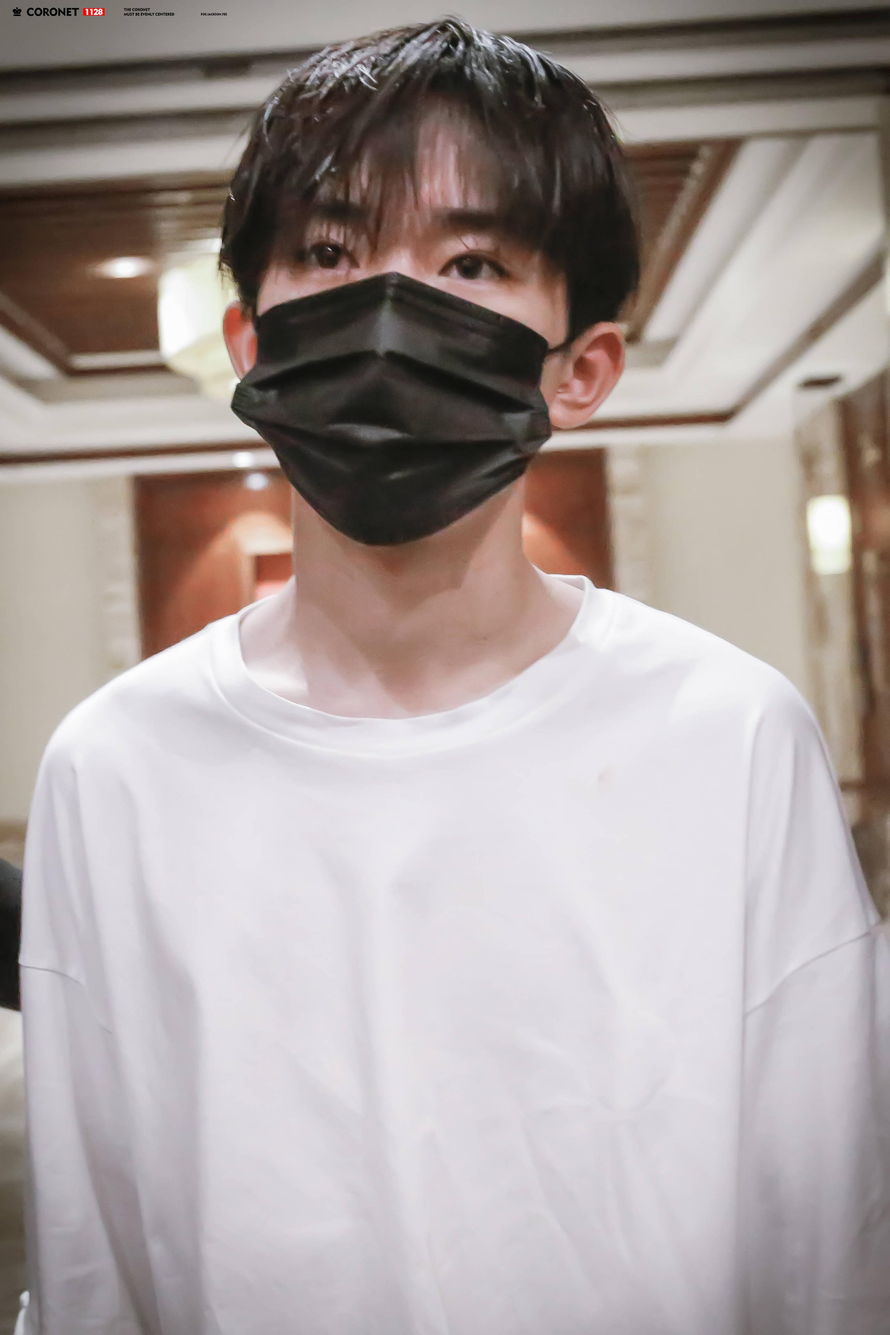OK: (232, 162, 556, 546)
